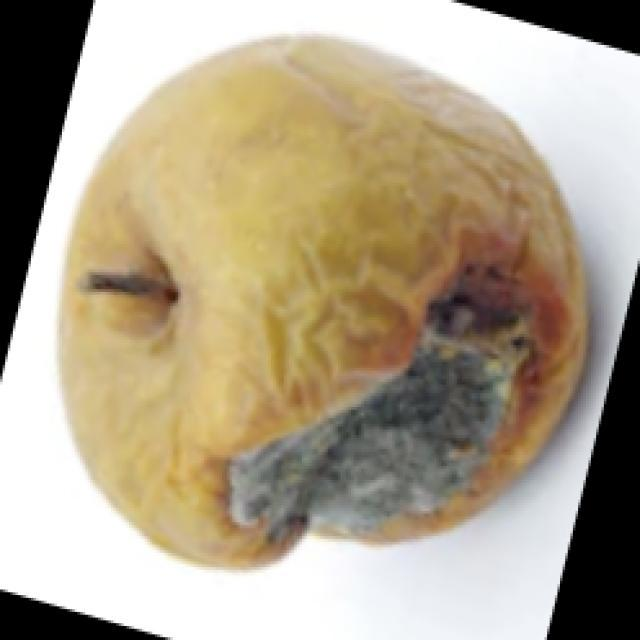Rotten: (72, 35, 573, 557)
